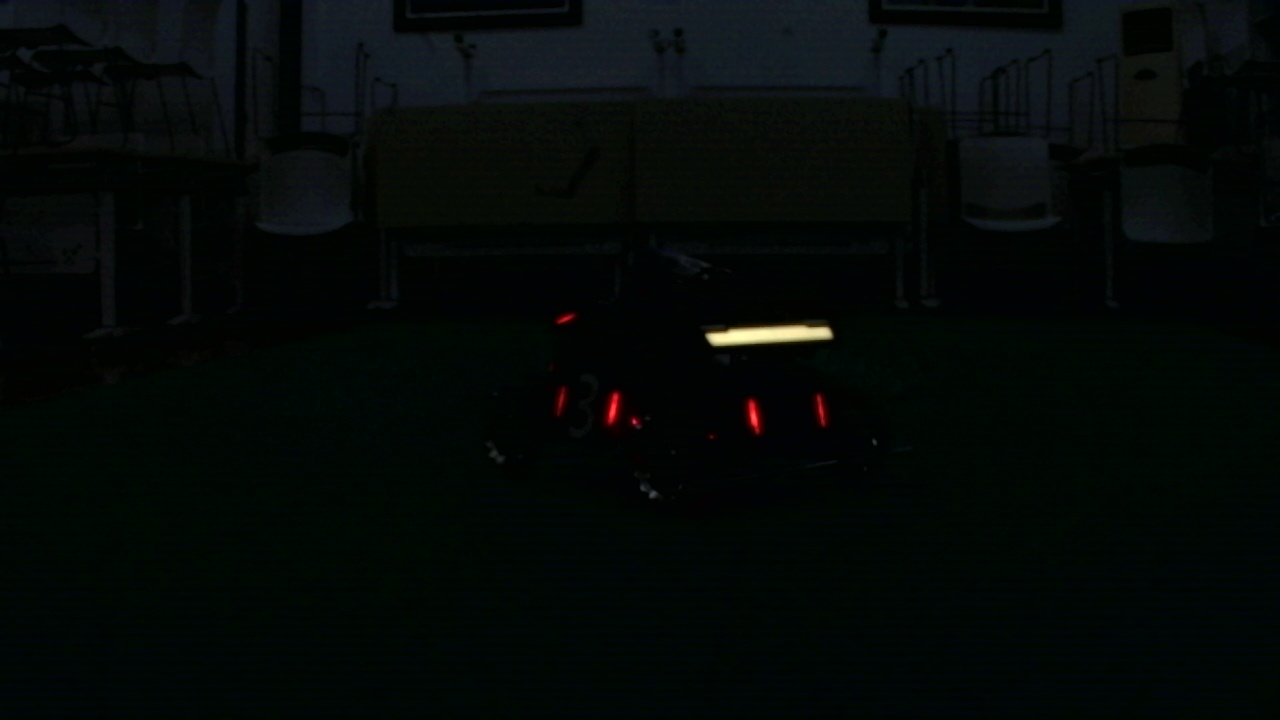lamp: (813, 390, 827, 432), (746, 394, 760, 431), (606, 391, 617, 424)
pair1: (746, 397, 827, 431)
